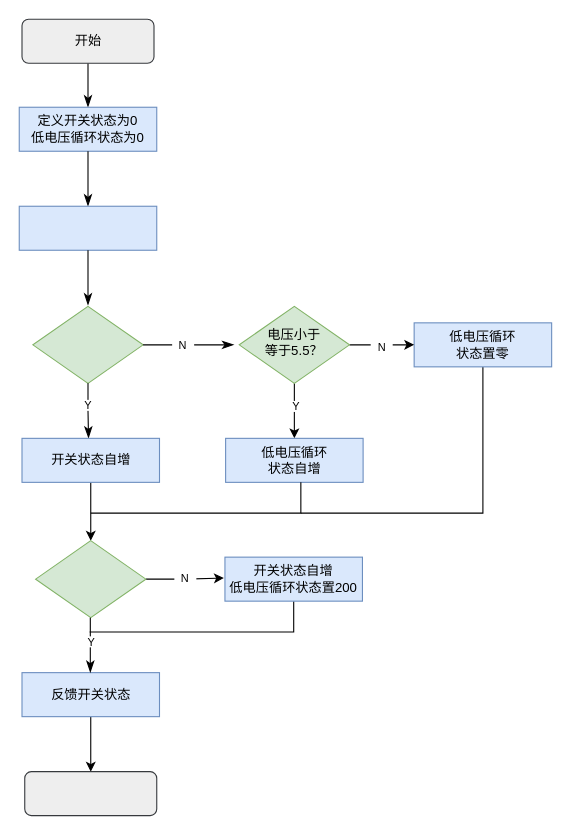
Image size: 571x835. Some labels were removed from this diagram. Here are the shapes that lost their labels. From the top down, the centre of each, then its label:
At pixel 87 227: "读取电源电压".
At pixel 87 344: "电压小于0.8？".
At pixel 90 579: "低电压状态 循环小于200次？".
At pixel 90 793: "结束".
